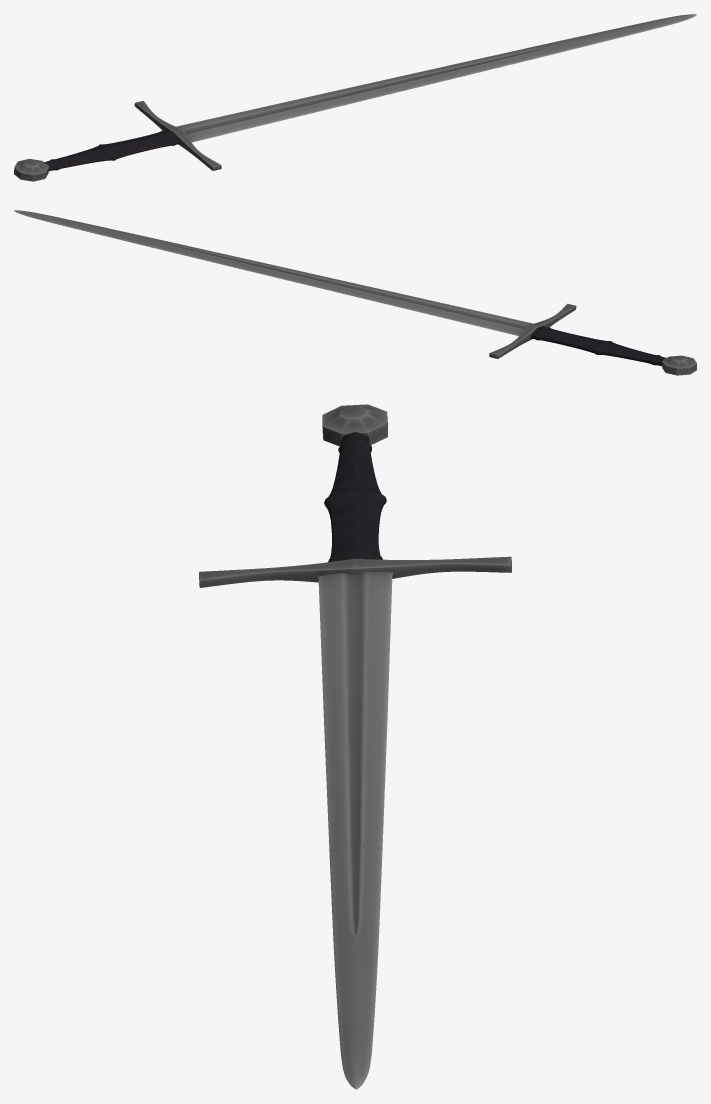
The model's file is longsword_3.glb.
3 renders of one model, top to bottom at view 1: azimuth 30°, elevation 25°; view 2: azimuth 150°, elevation 25°; view 3: azimuth 270°, elevation 25°, orthographic. The views are drawn at different scales.
Parts seen in each view (by area): view 1: Longsword_03_low, Longsword_01_low, Longsword_02_low, Longsword_04_low; view 2: Longsword_03_low, Longsword_01_low, Longsword_02_low, Longsword_04_low; view 3: Longsword_03_low, Longsword_01_low, Longsword_02_low, Longsword_04_low.
Boxes of the visible parts, <box> form: Longsword_03_low: <box>176,14,696,142</box>; Longsword_01_low: <box>44,130,179,171</box>; Longsword_02_low: <box>134,100,221,170</box>; Longsword_04_low: <box>14,158,48,181</box>; Longsword_03_low: <box>14,210,532,335</box>; Longsword_01_low: <box>531,326,666,366</box>; Longsword_02_low: <box>489,303,576,358</box>; Longsword_04_low: <box>662,355,696,375</box>; Longsword_03_low: <box>318,572,392,1089</box>; Longsword_01_low: <box>324,432,386,562</box>; Longsword_02_low: <box>199,556,511,587</box>; Longsword_04_low: <box>322,404,387,446</box>.
Size of the model in its own units: 1.12 by 0.0248 by 0.2233.
1 material, 1 textured.
